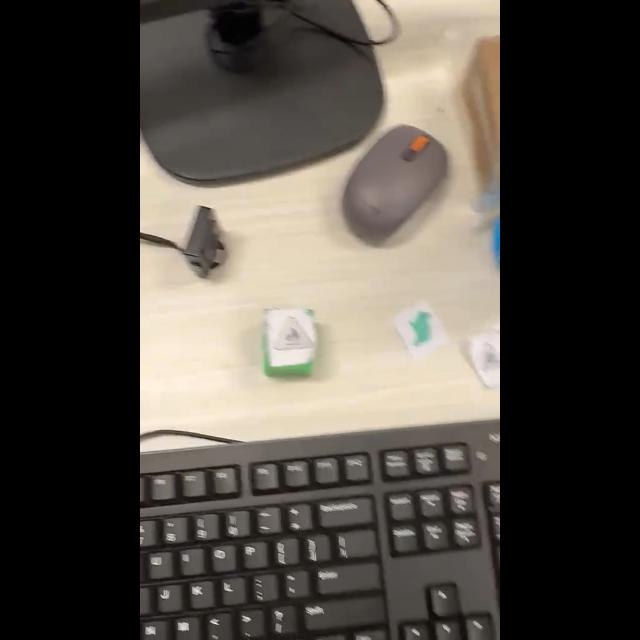Fire: (275, 314, 315, 351)
